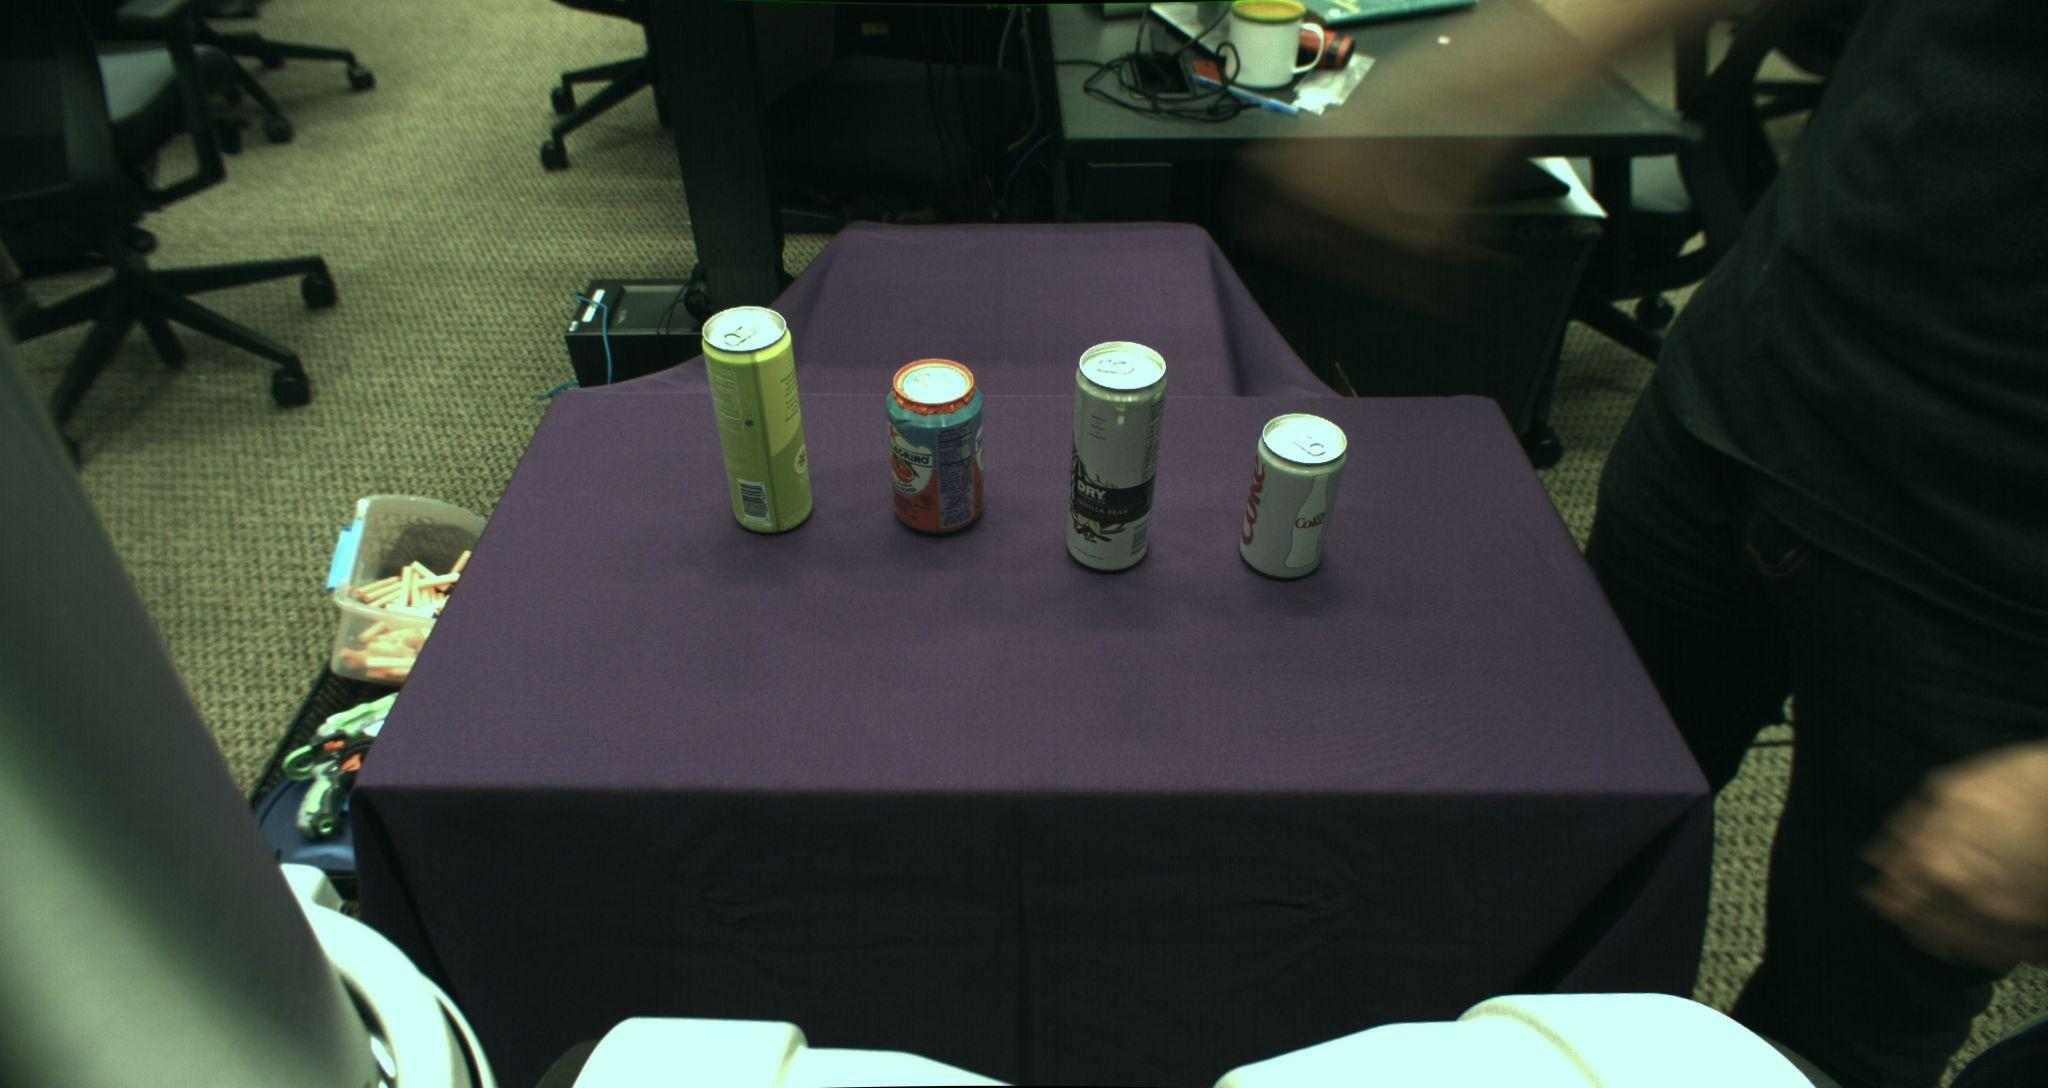can_diet_coke_small: (1238, 412, 1349, 583)
can_dry_sparkling_vanilla_bean: (1067, 340, 1165, 570)
can_izze_fusions_lemon_lime: (702, 304, 813, 532)
can_sanpellegrino_blood_orange: (887, 358, 985, 534)
